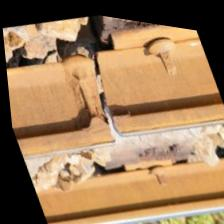person: (8, 1, 191, 185)
